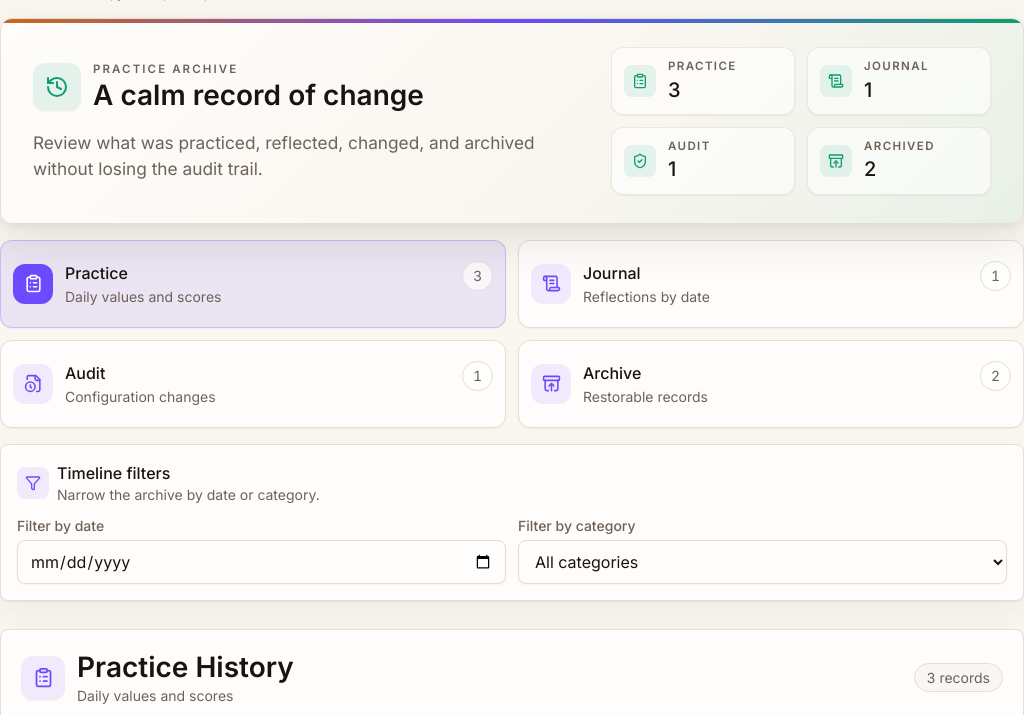
Test: HistoryScreen › shows journal history entries
Click the button with aria-label "Journal History" at (551, 284), box left=518, top=240, right=1023, bottom=328
(page scrolled)
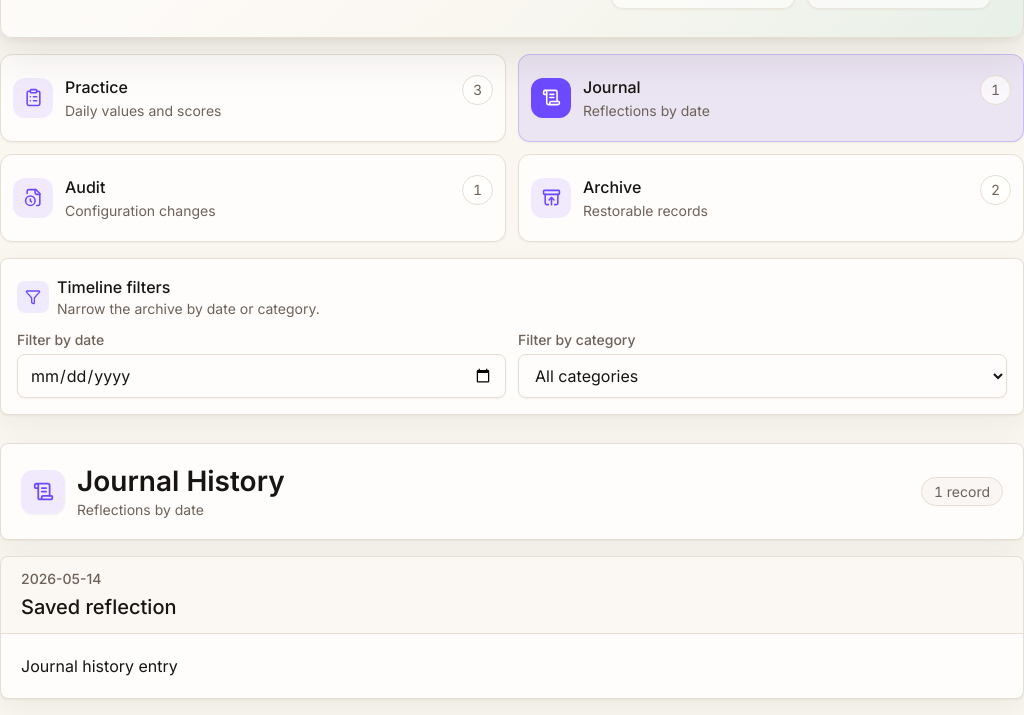
Expected: the text "2026-05-14" is shown, left=21, top=570, right=102, bottom=587
Now the text "Journal history entry" is shown, box left=21, top=656, right=178, bottom=676
